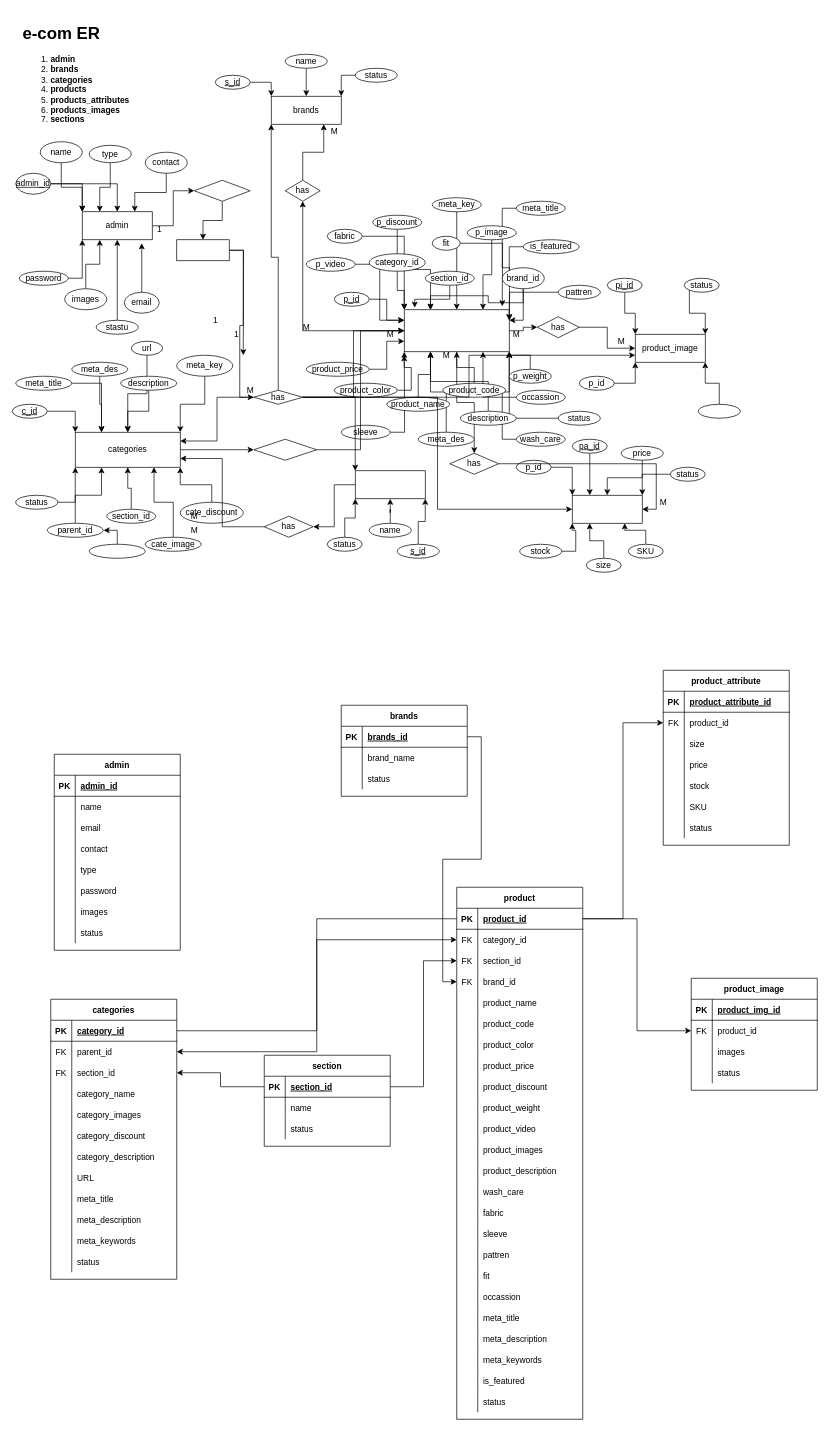
This 830x1432 diagram has some shape labels left out. Here are the shapes that lost their labels. From the top down, the centre of each, then its label:
At pixel 222 190: "login".
At pixel 202 250: "dashboard".
At pixel 456 330: "products".
At pixel 719 411: "image".
At pixel 285 449: "has many".
At pixel 390 484: "sections".
At pixel 607 509: "product_attri".
At pixel 117 551: "cate_name".
